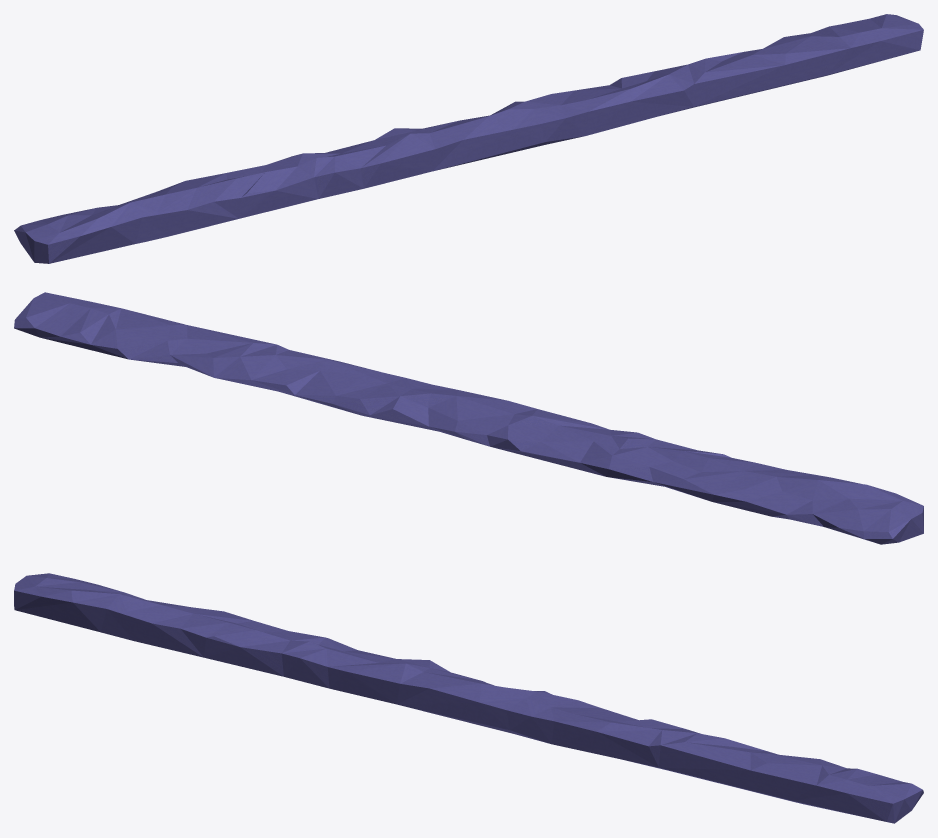
File: Elder_IceWall2.fbx
3 renders of one model, top to bottom at view 1: azimuth 30°, elevation 25°; view 2: azimuth 150°, elevation 25°; view 3: azimuth 330°, elevation 25°, orthographic.
Visible parts, largest first — view 1: Elder_IceWall2; view 2: Elder_IceWall2; view 3: Elder_IceWall2.
Boxes of the visible parts, <box> form: Elder_IceWall2: <box>14,14,923,263</box>; Elder_IceWall2: <box>14,292,923,544</box>; Elder_IceWall2: <box>14,573,923,823</box>.
Size of the model in its own units: 5691 by 236 by 430.
Materials: 1 (1 with a texture image).
